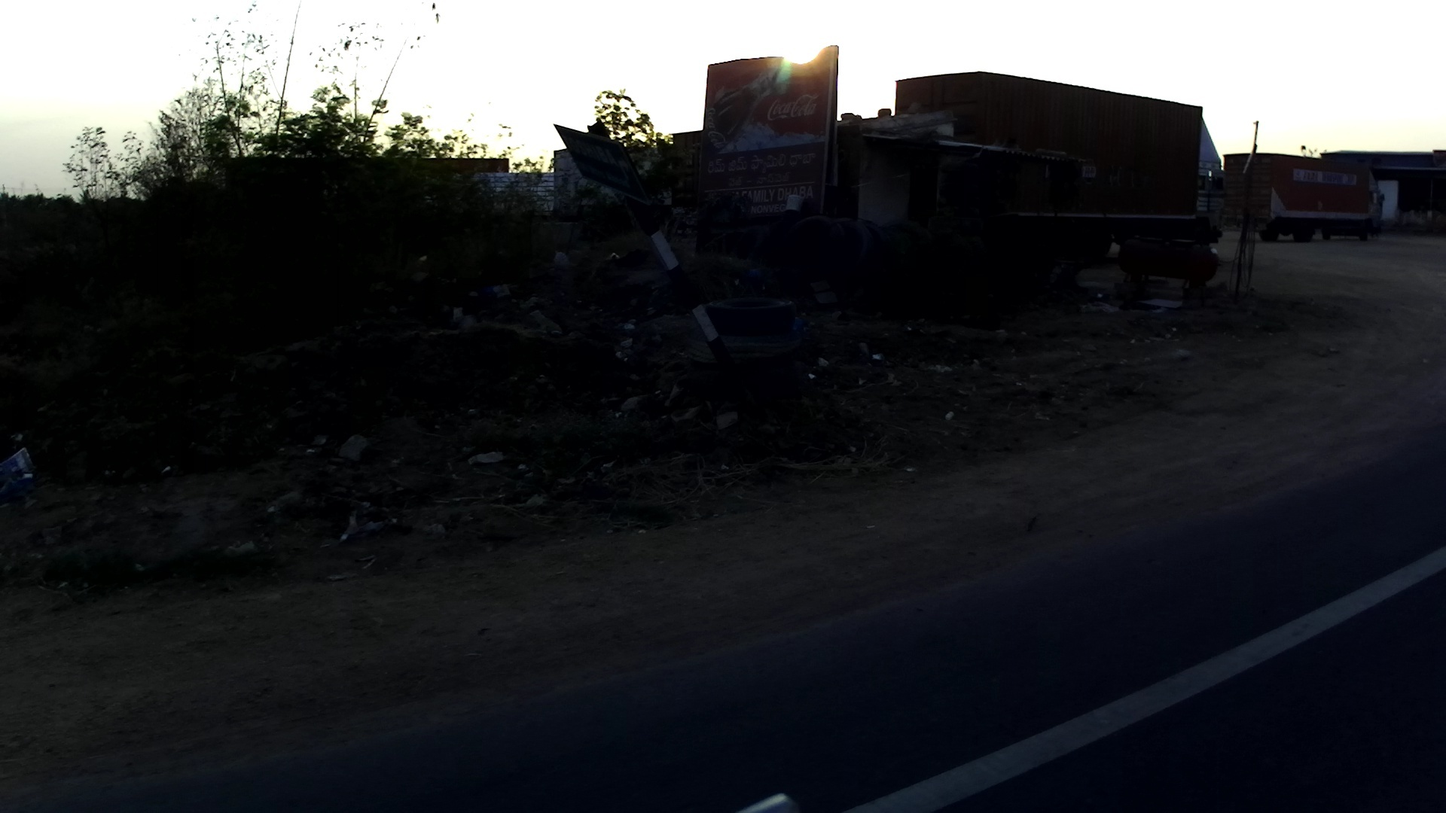truck: (891, 73, 1228, 277), (1225, 147, 1388, 246)
